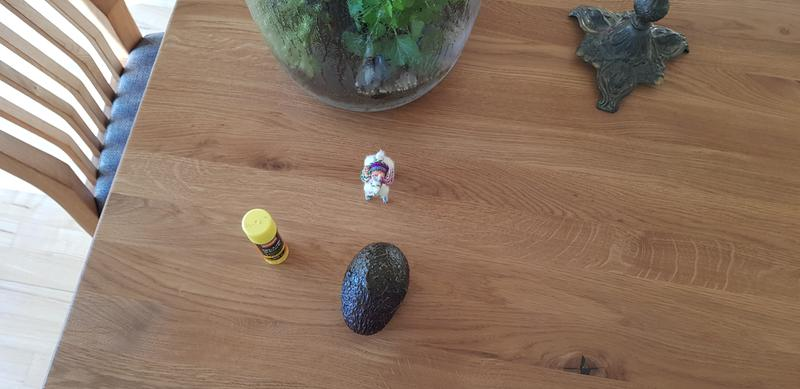Avocado: (338, 240, 417, 339)
Glue-Stick: (235, 204, 297, 273)
Horse-Toy: (355, 143, 398, 209)
